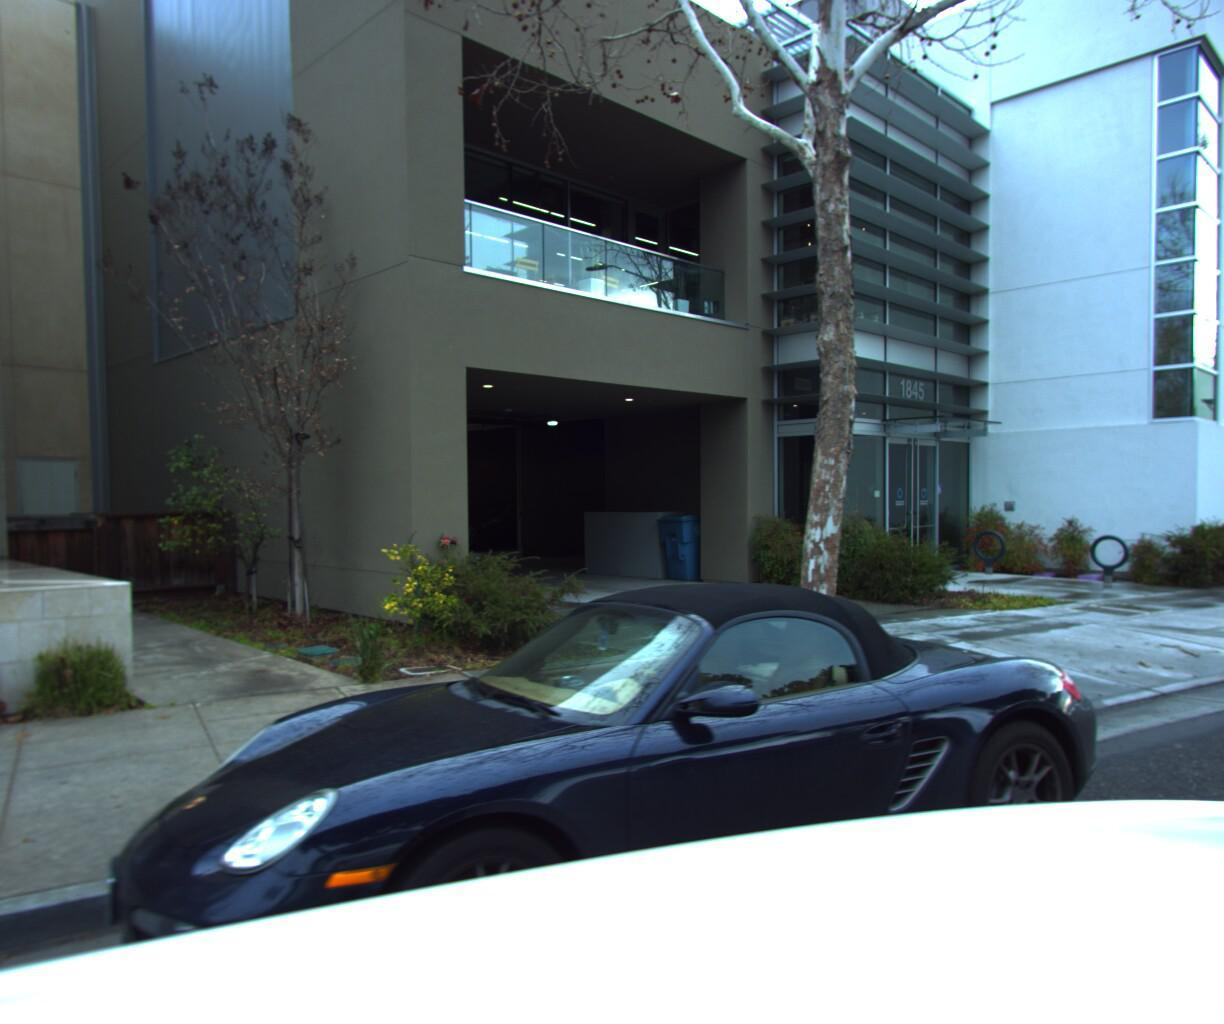car: (66, 542, 1171, 1024), (425, 495, 572, 549)
